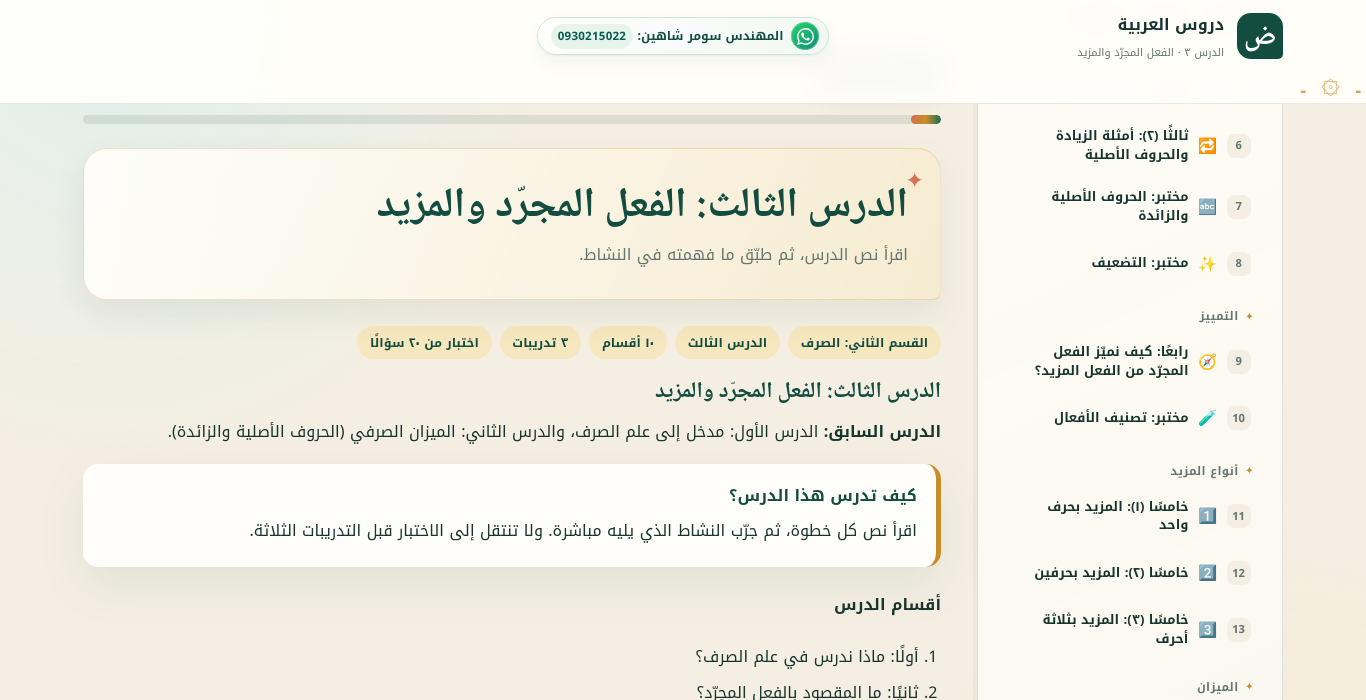
Morphology Lesson 03 — Interactive Flow & Navigation › gives explanatory feedback only after the check button in the classification lab
The width and height of the screenshot is (1366, 700).
(page scrolled)
Step 1. Click the button "10 🧪 مختبر: تصنيف الأفعال" → {"x": 1130, "y": 418}, box left=998, top=394, right=1262, bottom=442
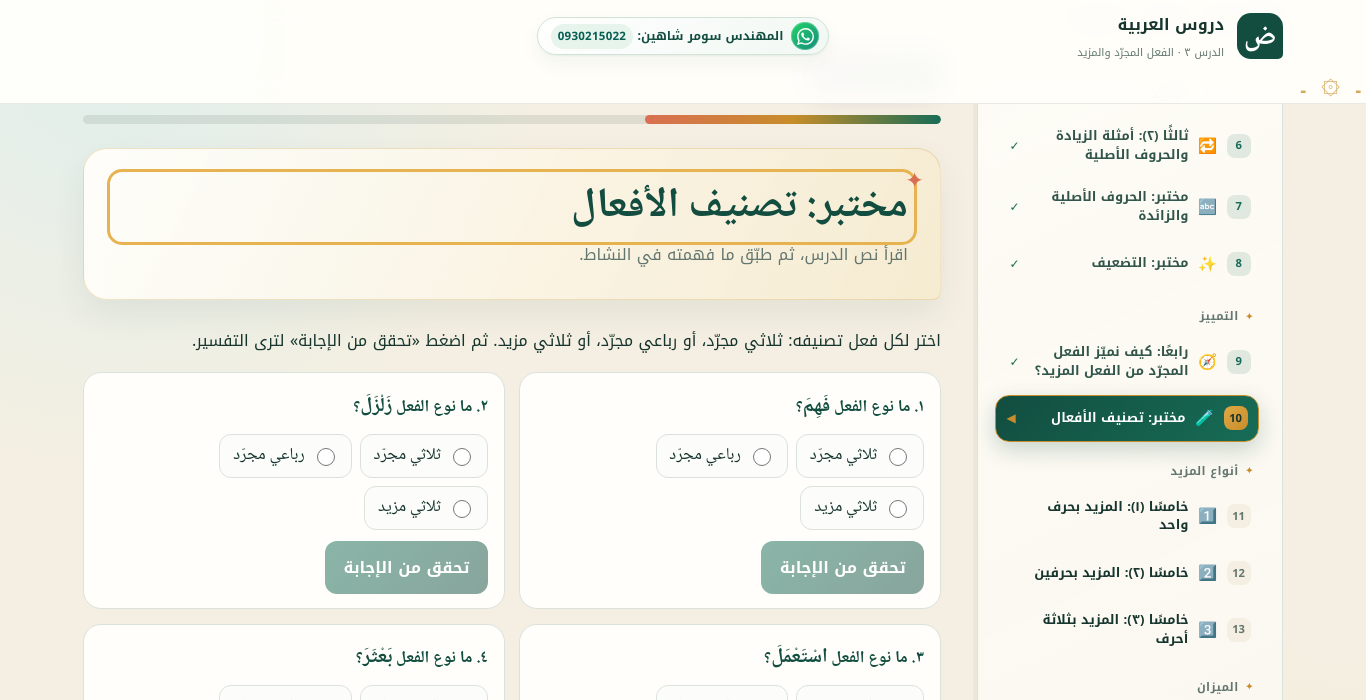
Step 2. Click the radio button labelled "رباعي مجرّد" below "فَهِمَ" → {"x": 762, "y": 457}, box left=753, top=448, right=771, bottom=466
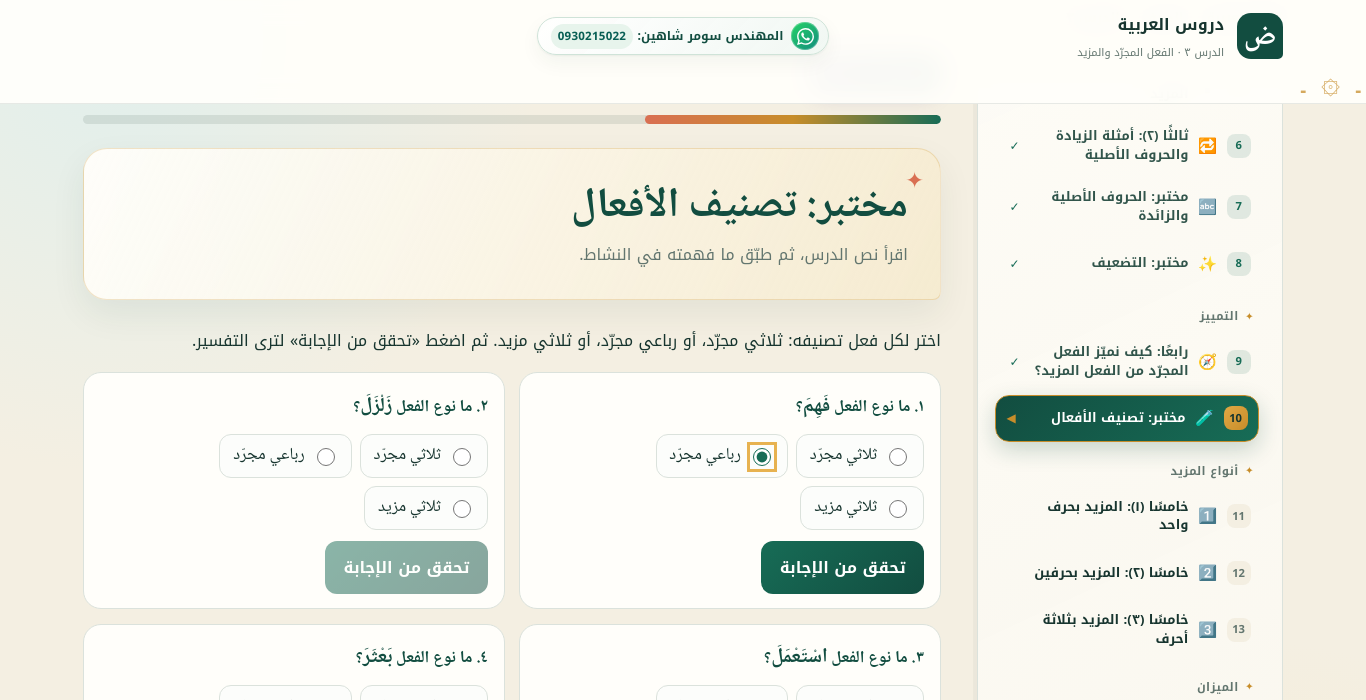
Step 3. Click the button "تحقق من الإجابة" below "فَهِمَ" → {"x": 843, "y": 567}, box left=761, top=541, right=924, bottom=594
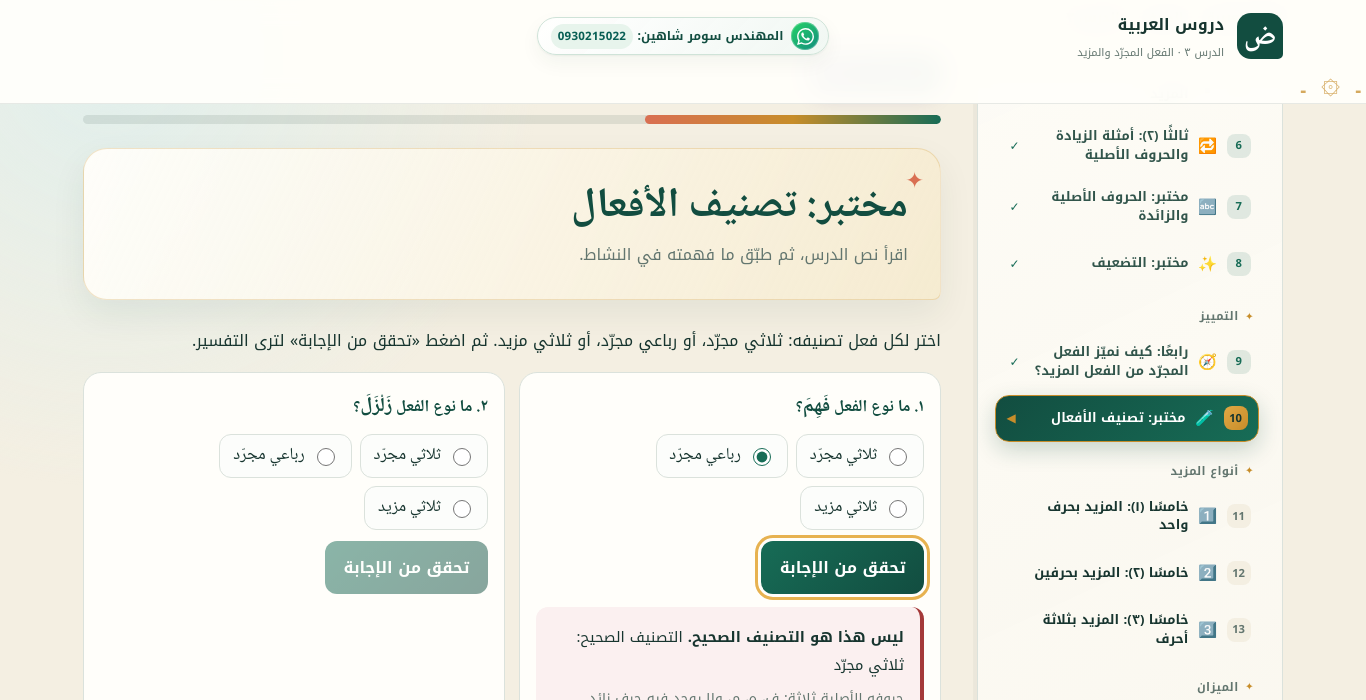
Expected: the message shows "ليس هذا هو التصنيف الصحيح", left=688, top=624, right=904, bottom=652
Expected: the message shows "ثلاثي مجرّد", left=834, top=651, right=904, bottom=679
Step 4. Click the radio button labelled "ثلاثي مجرّد" below "فَهِمَ" → {"x": 898, "y": 457}, box left=889, top=448, right=907, bottom=466
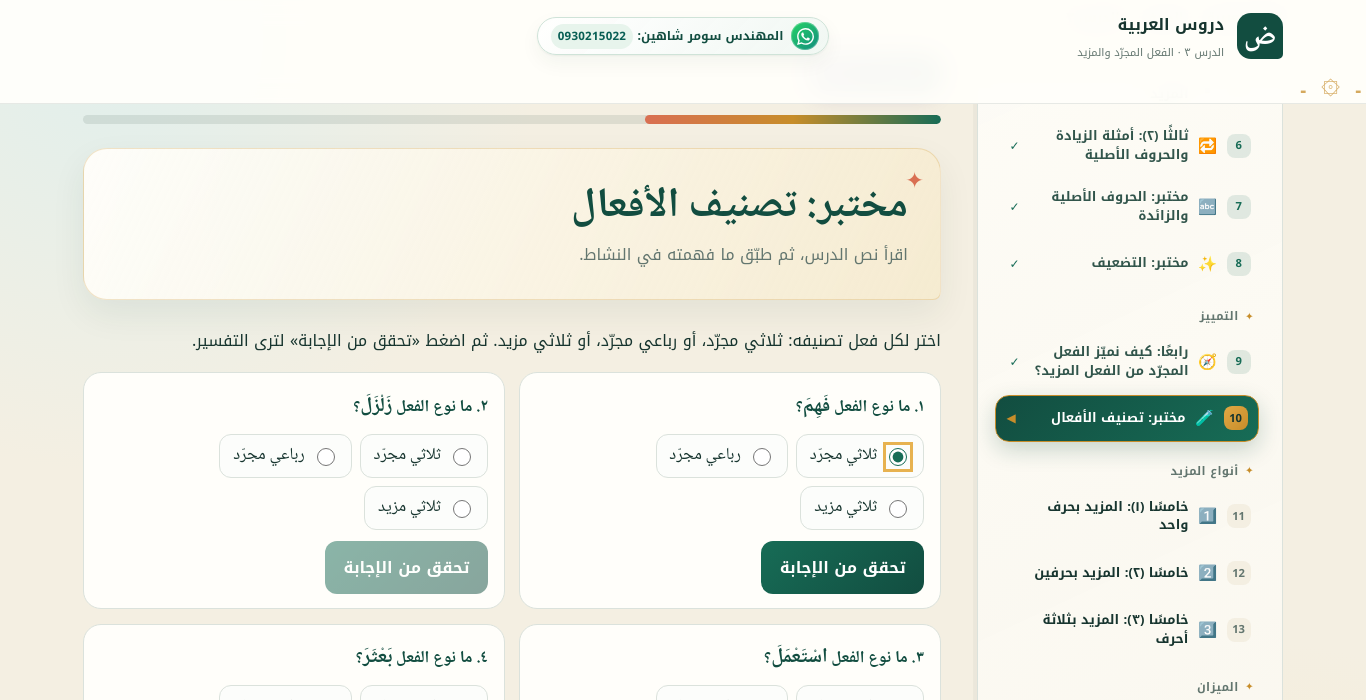
Step 5. Click the button "تحقق من الإجابة" below "فَهِمَ" → {"x": 843, "y": 567}, box left=761, top=541, right=924, bottom=594
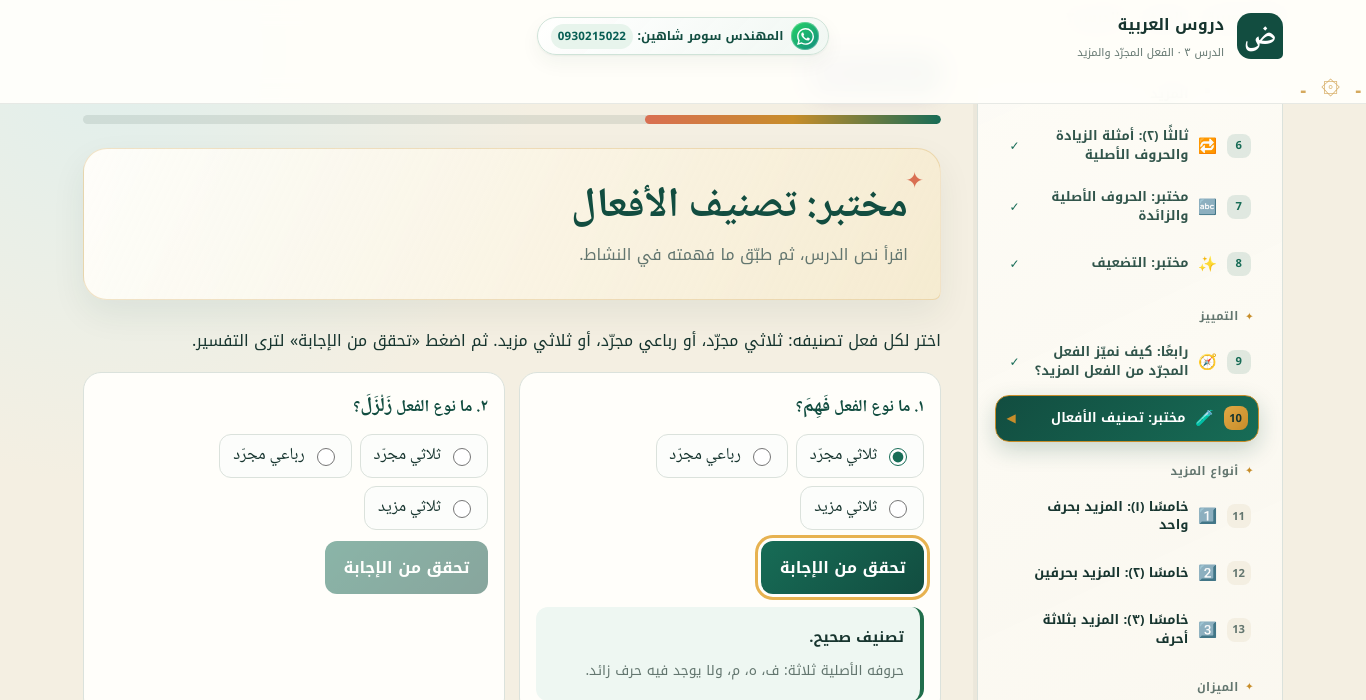
Expected: the message shows "تصنيف صحيح", left=809, top=624, right=904, bottom=652
